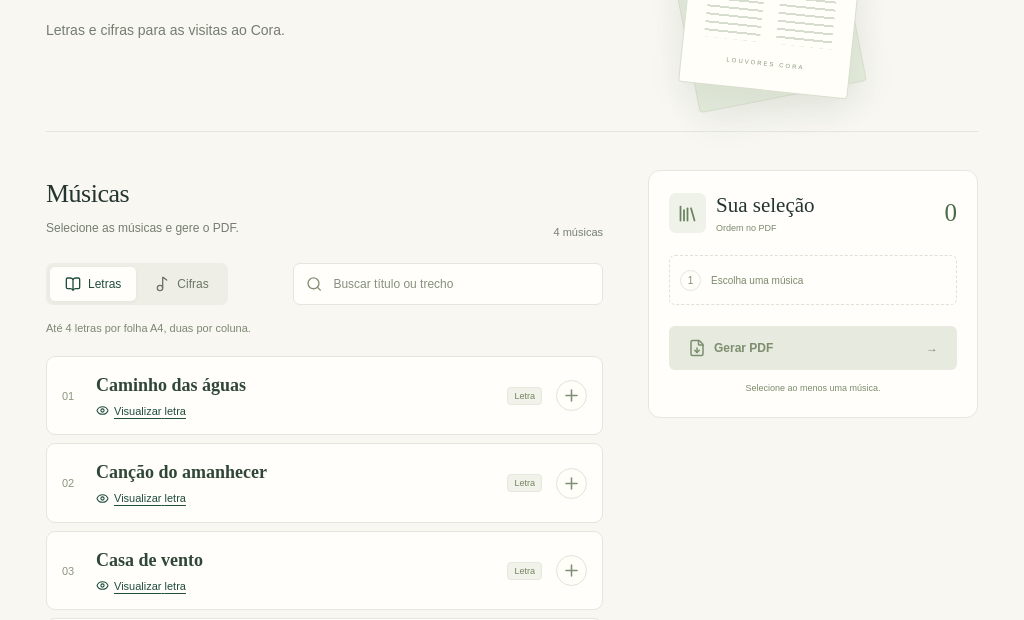
it: searches titles without accents, excludes artist metadata and exposes four selections
Expected: the button "Gerar PDF →" is disabled, [669, 326, 957, 370]
Click the button named "Selecionar " at (572, 396), box [556, 380, 587, 411]
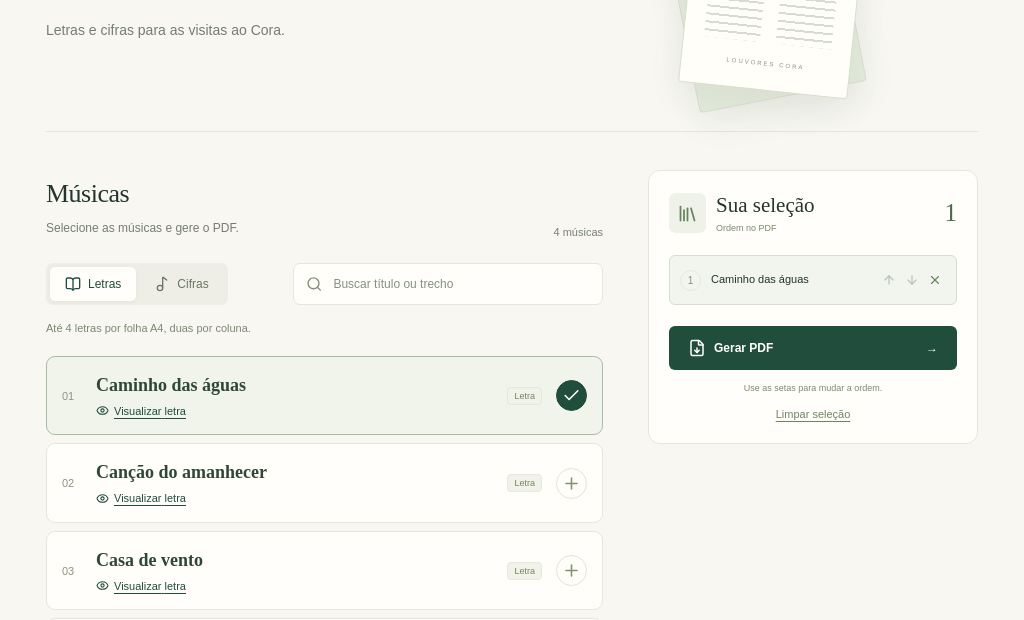
Click the button named "Selecionar " at (572, 483), box [556, 468, 587, 498]
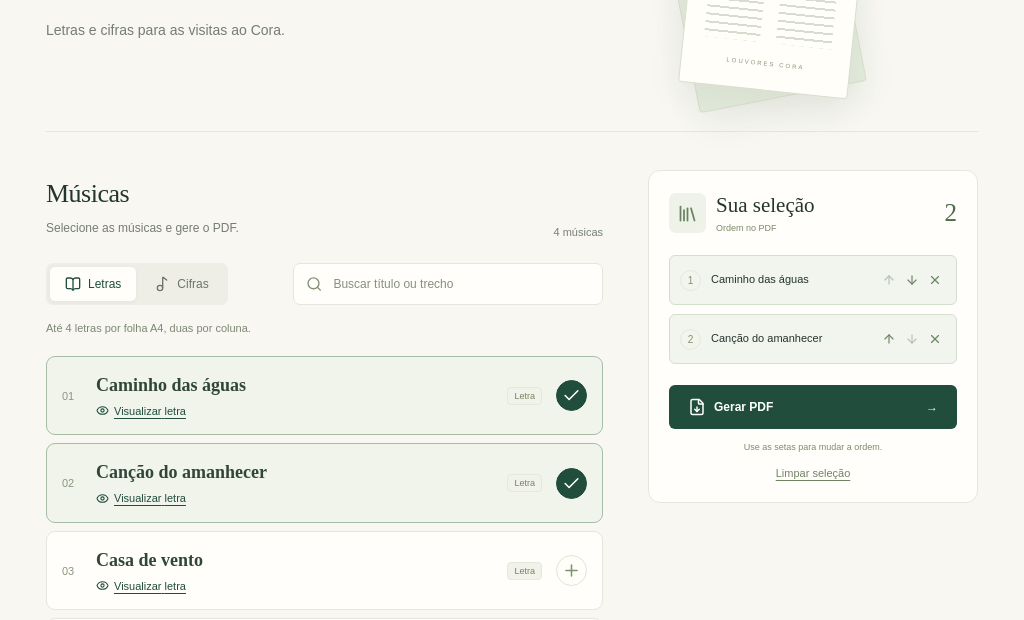
Click the button named "Selecionar " at (572, 570), box [556, 555, 587, 586]
(page scrolled)
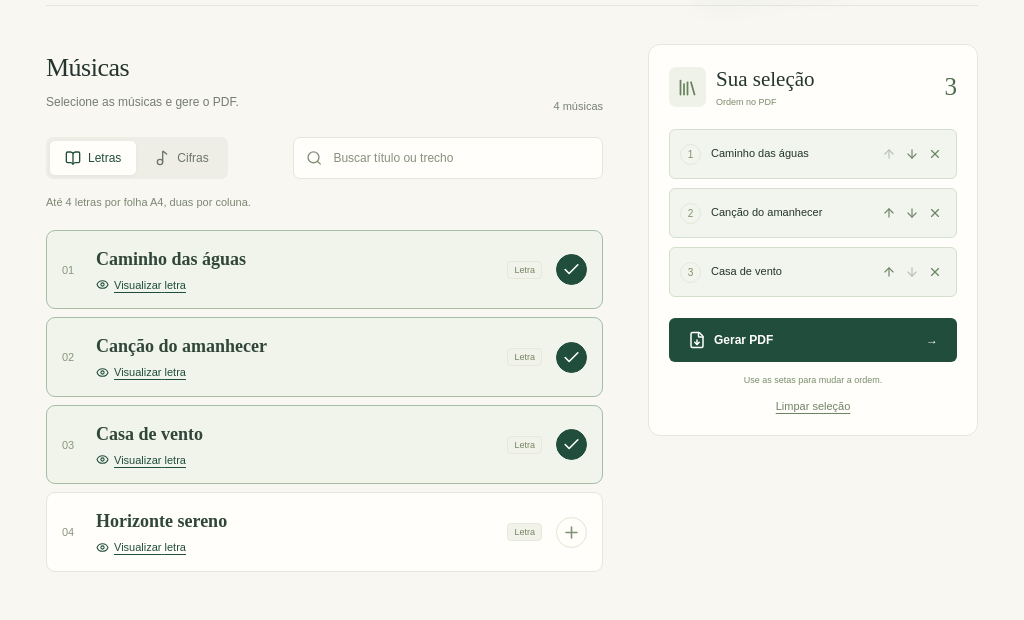
Click the button named "Selecionar " at (572, 532), box [556, 516, 587, 548]
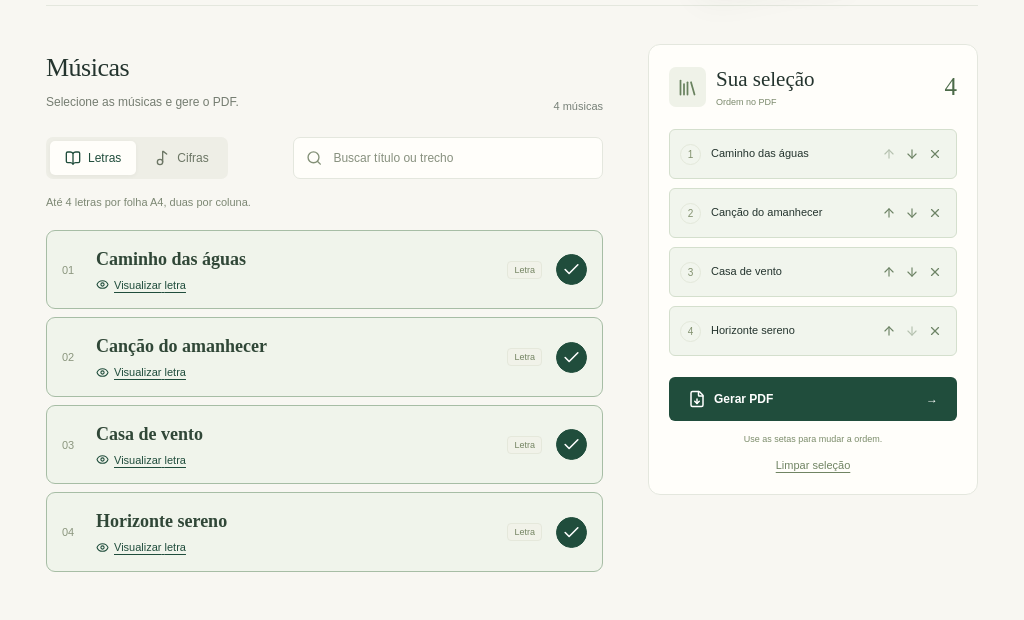
Expected: the button "Gerar PDF →" is enabled, [669, 377, 957, 421]
Type "inexistente" into the search field at (461, 158), box [331, 150, 590, 166]
(page scrolled)
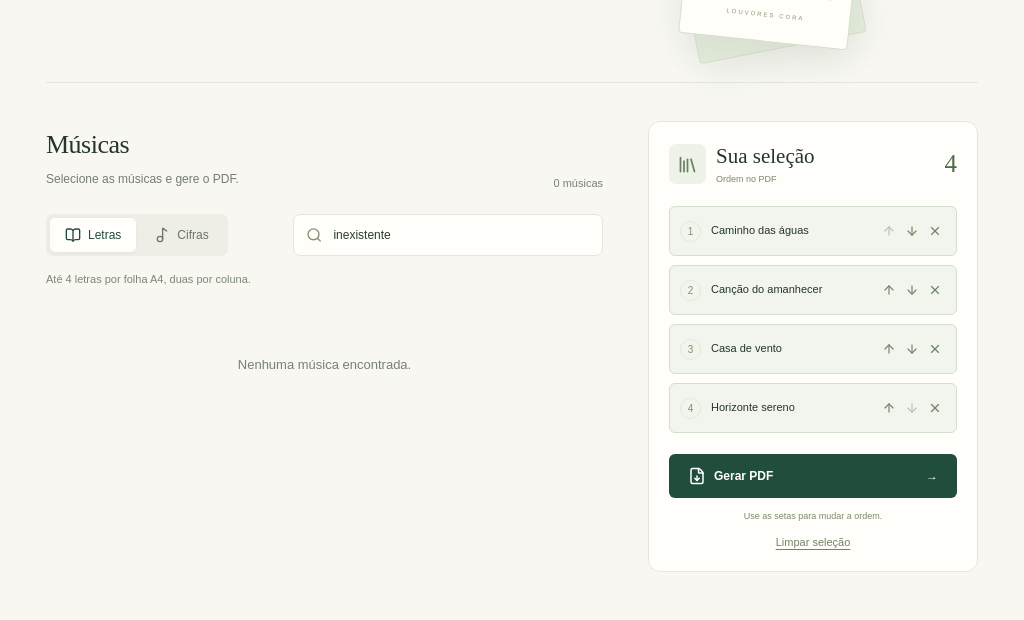
Expected: the text "Nenhuma música encontrada." is shown, [238, 357, 411, 372]
